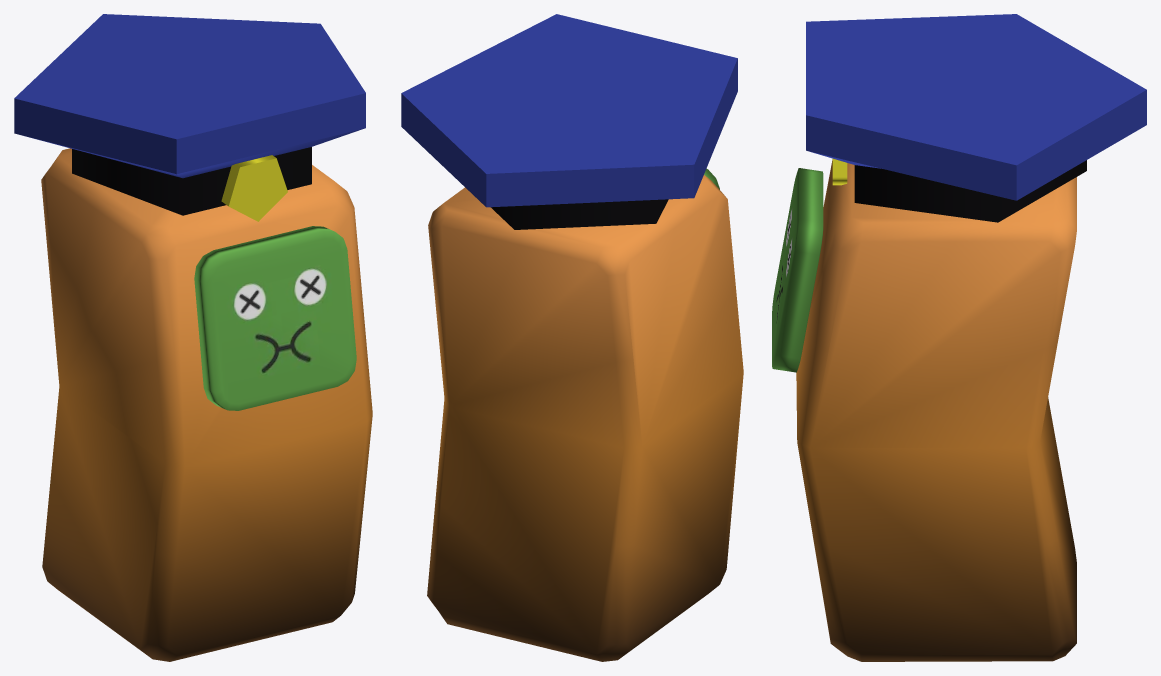
File: FingerV5.fbx
3 renders of one model, left to right at view 1: azimuth 30°, elevation 25°; view 2: azimuth 150°, elevation 25°; view 3: azimuth 270°, elevation 25°, orthographic. The views are drawn at different scales.
Parts seen in each view (by area): view 1: Cube.019, Cylinder.021, Cube.020; view 2: Cube.019, Cylinder.021; view 3: Cube.019, Cylinder.021, Cube.020.
Part boxes in pixels (x1,y1,x2,y2): Cube.019: (41,148,372,661); Cylinder.021: (14,14,365,221); Cube.020: (194,226,356,410); Cube.019: (427,175,743,661); Cylinder.021: (401,14,737,229); Cube.019: (796,159,1076,661); Cylinder.021: (806,14,1146,222); Cube.020: (772,168,823,372).
Bounding box in the file's own units: 43.12 × 41.23 × 69.53.
